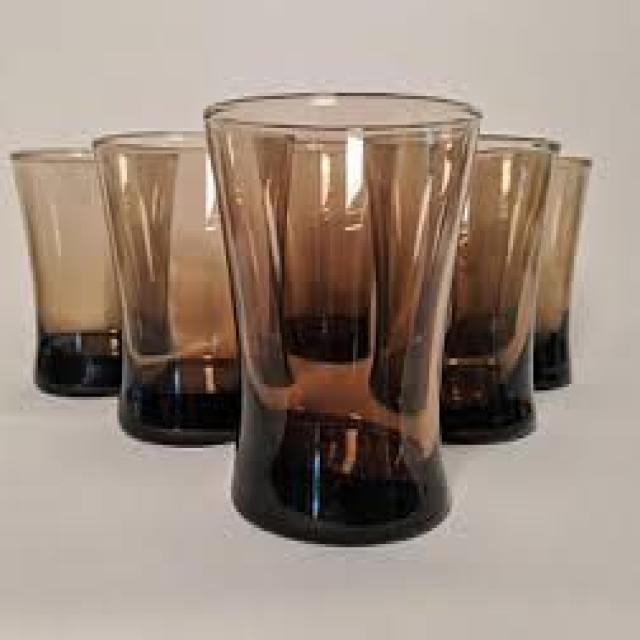Glass: (200, 90, 481, 549), (91, 133, 293, 450), (366, 132, 558, 446), (10, 143, 176, 397), (533, 156, 592, 392)
